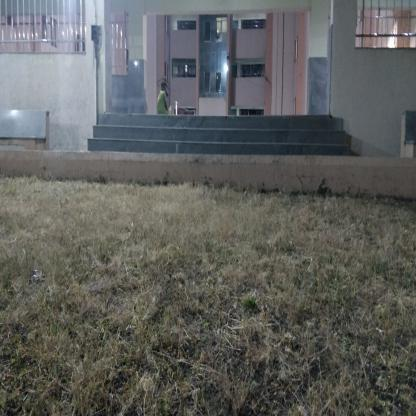stairs: (107, 114, 332, 152)
